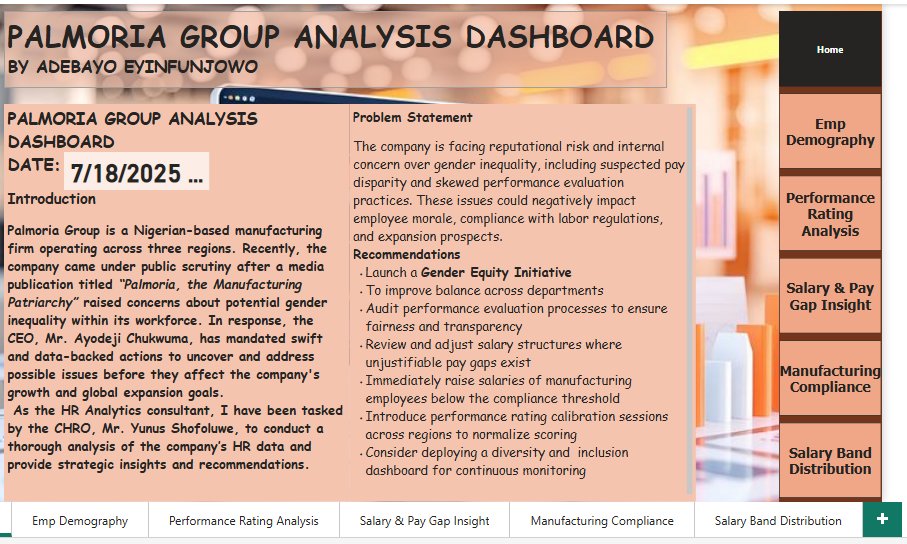

This screenshot's page, from the dashboard's own definition file:
{"tool":"powerbi","page":{"name":"Home","canvas":[1280,720],"ordinal":0},"visuals":[{"type":"textbox","box":[10.1,10.1,958.6,111.3],"z":0},{"type":"textbox","box":[10.1,144.6,500.2,575.4],"z":1},{"type":"card","fields":{"Values":["Bonus Rules.Today Date"]},"box":[96.9,214,209.6,54.9],"z":2},{"type":"textbox","box":[510.4,144.6,500.2,575.4],"z":3},{"type":"pageNavigator","box":[1130.6,10.1,148.9,709.9],"z":5}]}

Visuals, with their boxes on the page's 1280x720 design canvas (x1, y1, x2, y2). These are canvas units, not pixel positions in the 907x544 screenshot, which may show the page scaled, cropped or inside an application window:
textbox: bbox=(10, 10, 969, 121)
textbox: bbox=(10, 145, 510, 720)
card - Bonus Rules.Today Date: bbox=(97, 214, 306, 269)
textbox: bbox=(510, 145, 1011, 720)
pageNavigator: bbox=(1131, 10, 1280, 720)
